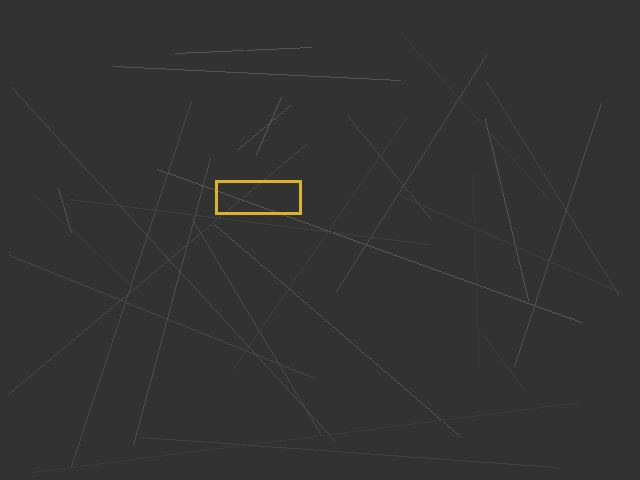D00: (215, 180, 301, 214)
